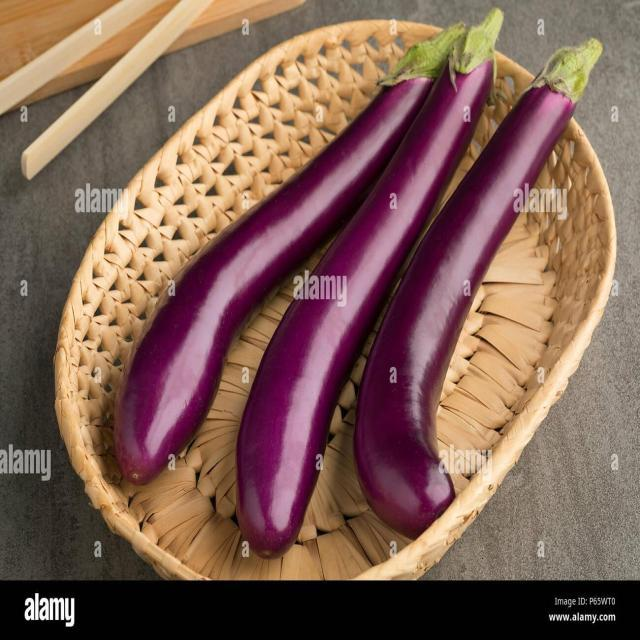eggplant: (111, 20, 467, 486), (234, 6, 504, 559), (352, 34, 603, 539)
